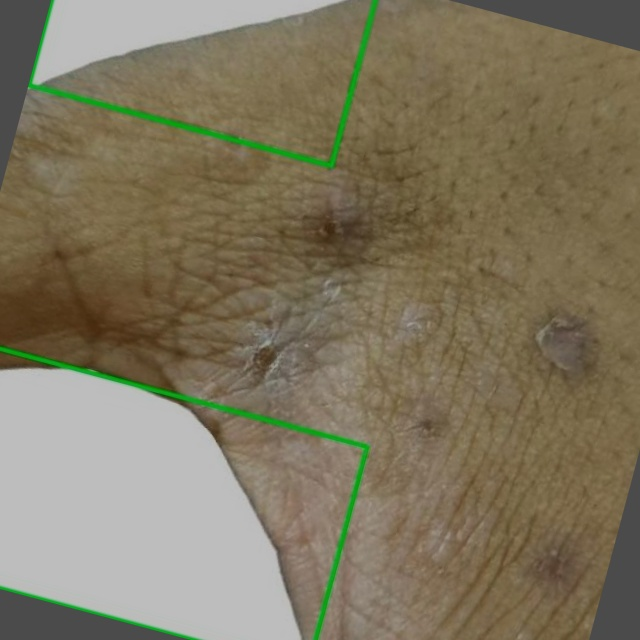Scabies: (0, 348, 367, 639), (29, 0, 375, 165)
